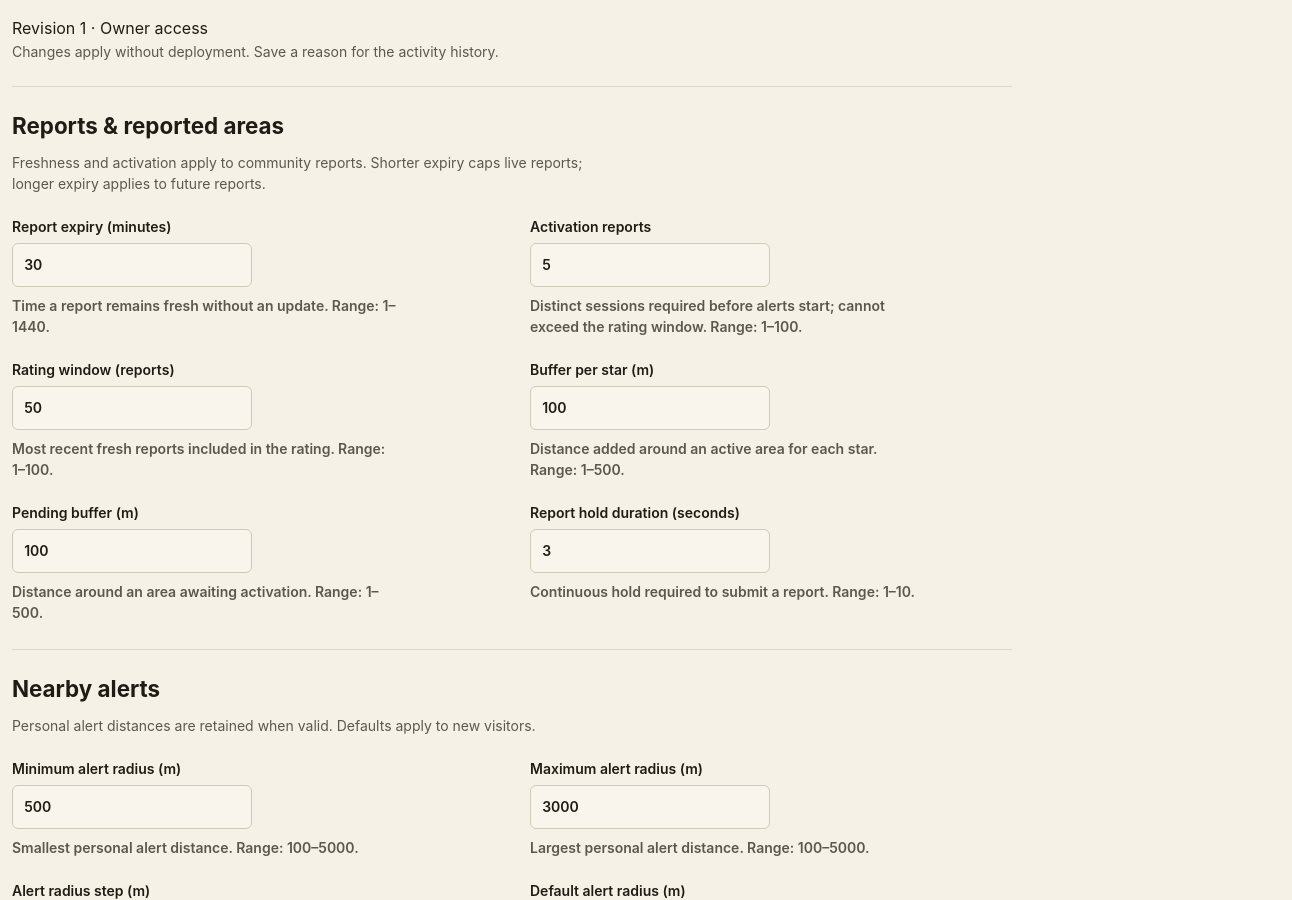
Scenario: dirty settings drafts survive a newer refresh and require explicit discard
Step 1. Replace the text in the number field labelled "Report hold duration" with "2" → {"x": 650, "y": 551}, box [530,529,770,573]
(page scrolled)
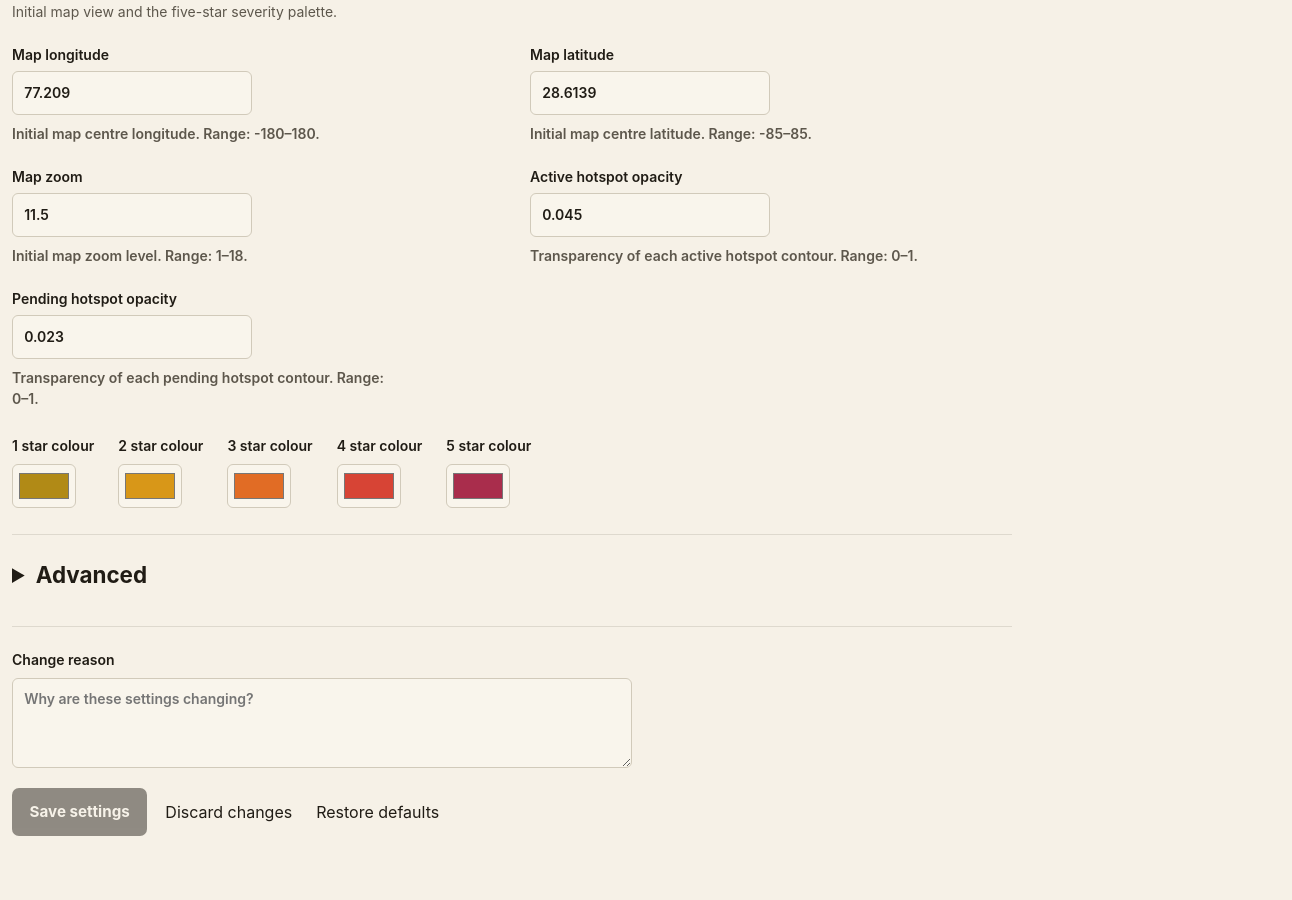
Expected: the button "Save settings" is disabled, [12,788,147,836]
Step 2. Click the button "Discard changes" → {"x": 229, "y": 812}, box [159,788,298,836]
(page scrolled)
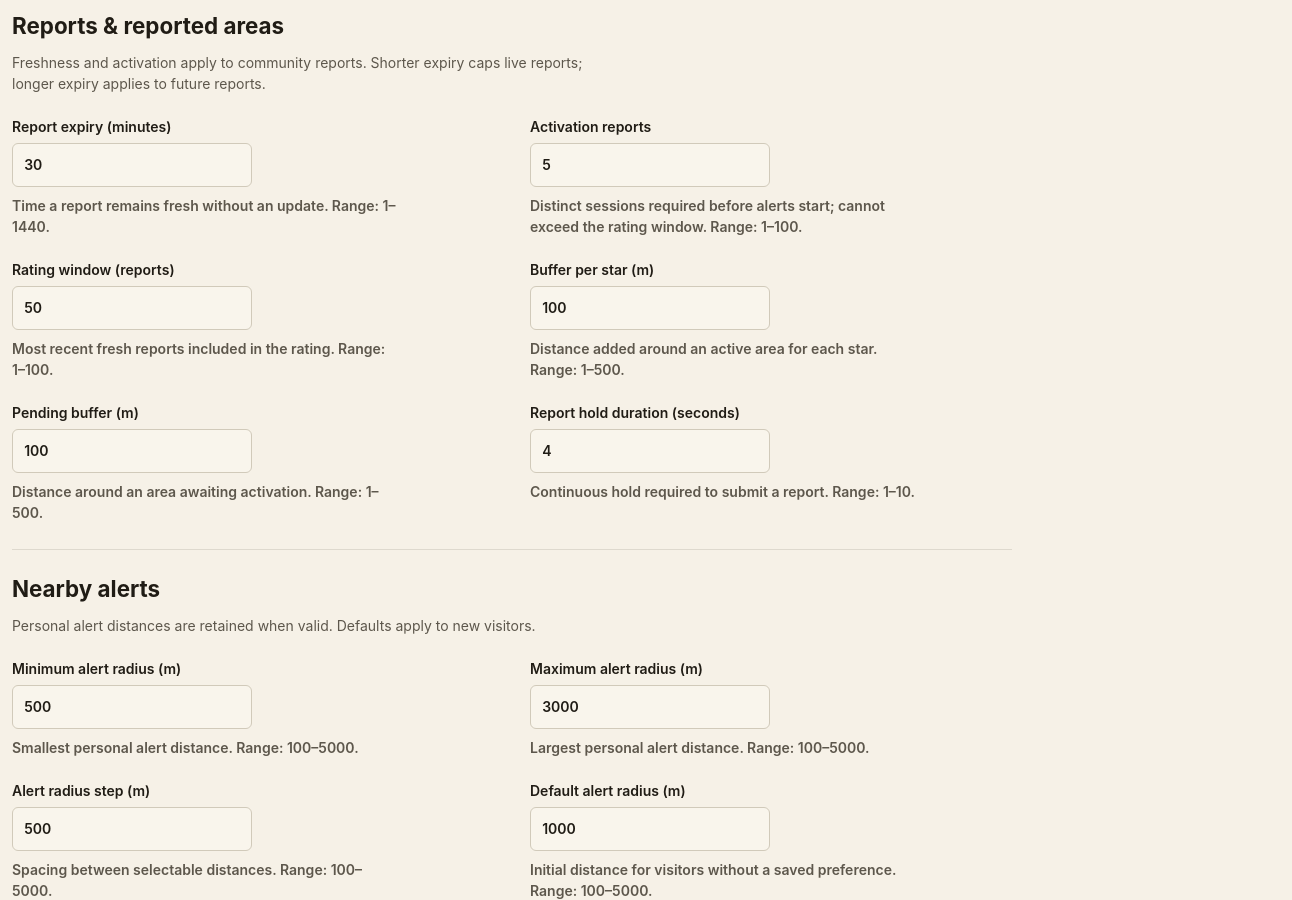
Expected: the number field labelled "Report hold duration" holds "4", [530,429,770,473]
